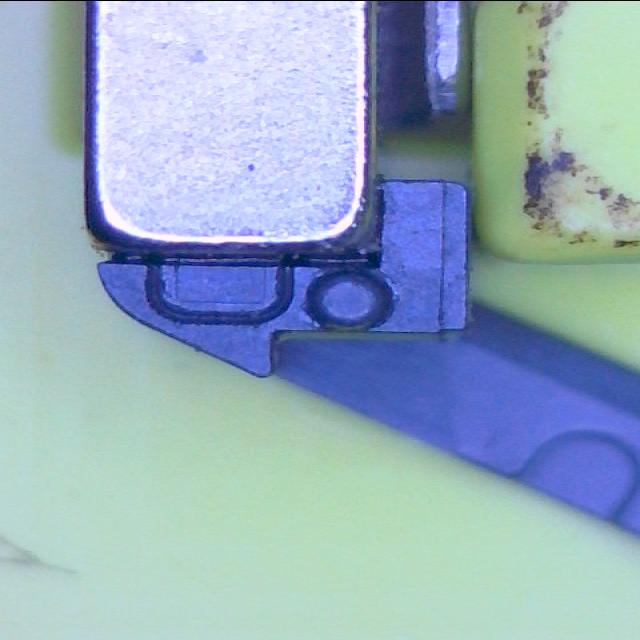lacking: (144, 260, 297, 326)
